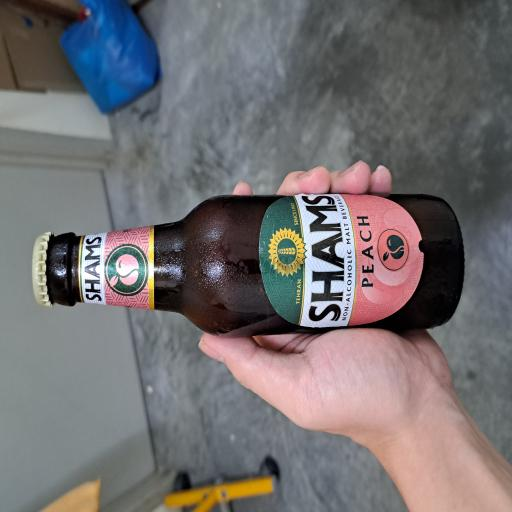glass bottle: (128, 40, 239, 512)
